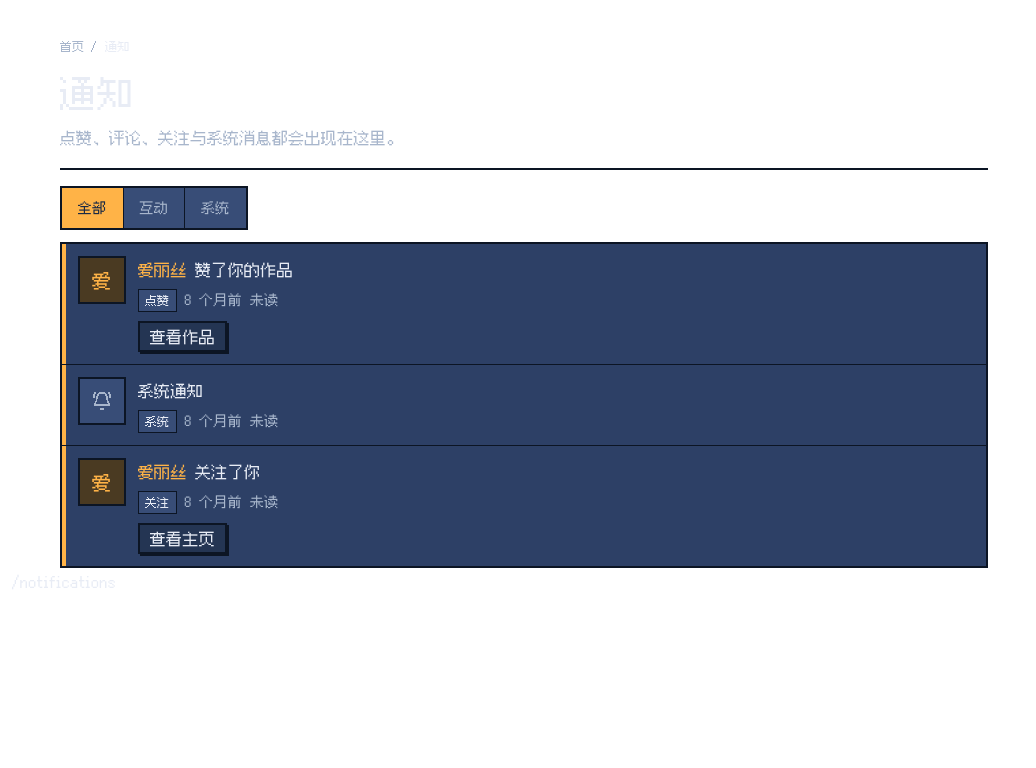
Test: 筛选 Tab › 「互动」筛掉系统消息，点赞/评论/关注都在
The width and height of the screenshot is (1036, 768).
Click the tab "互动": (154, 208) left=124, top=188, right=185, bottom=228
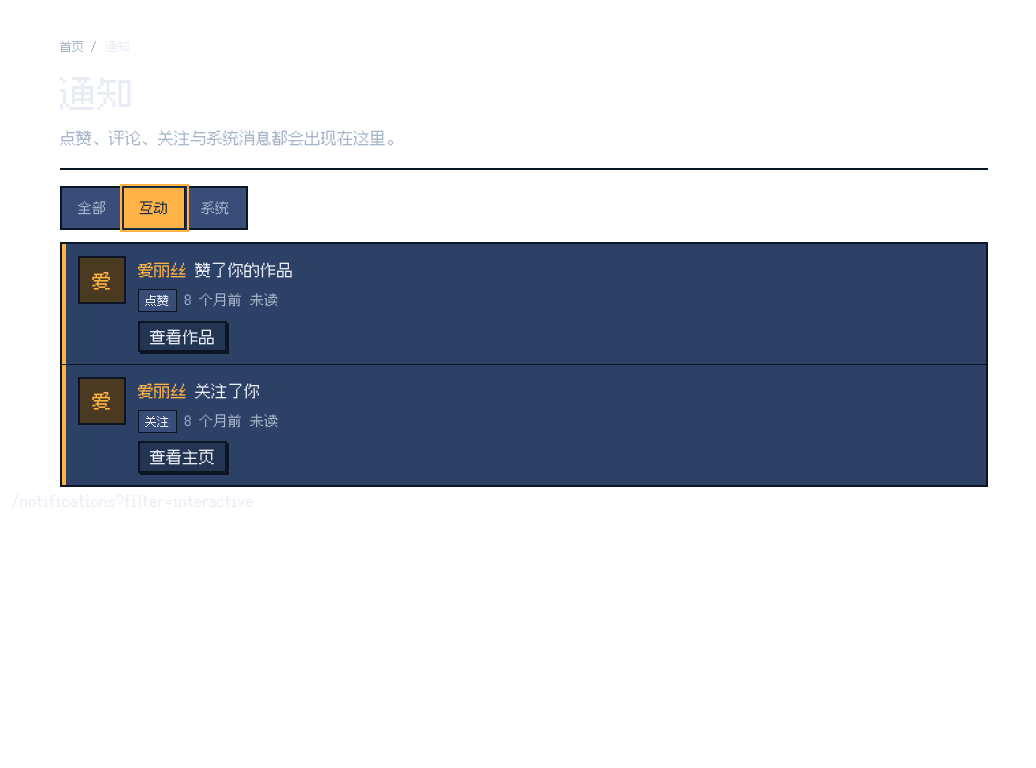
Expected: the text "系统通知" is gone
